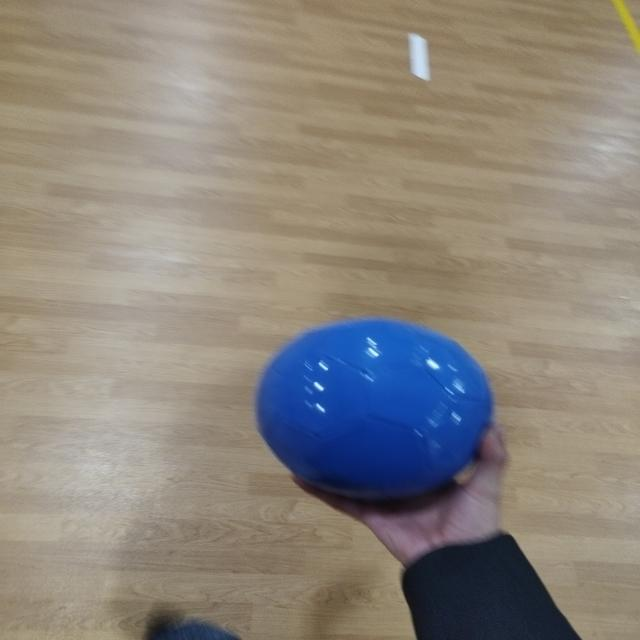blue_ball: (248, 316, 500, 500)
